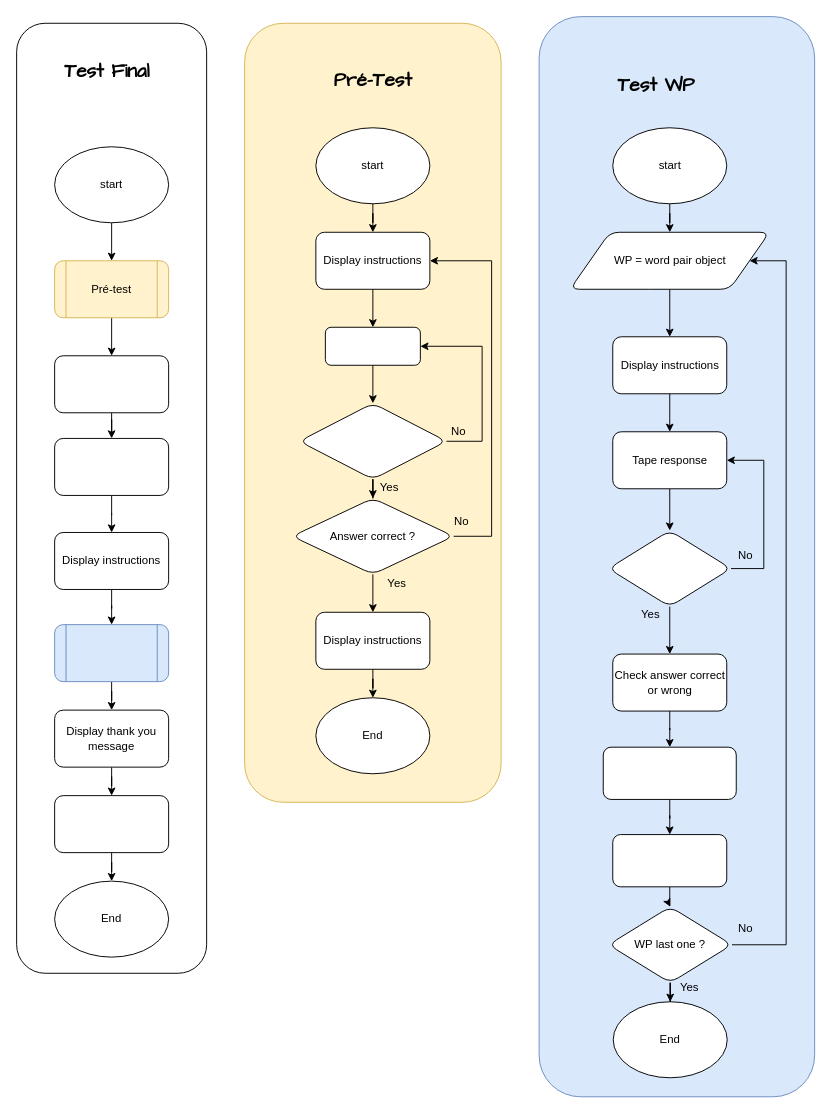
Some shapes in this 831 by 1113 pixel diagram are drawn without their labels. Here are the shapes that lost their labels. From the top down, the box of each, then its label:
(324, 326, 420, 365): Tape answer
(54, 355, 169, 413): Create word pair objects
(298, 402, 446, 479): Answer taping finished ?
(54, 437, 169, 495): Shuffle the word pair list order
(608, 530, 731, 607): response done ?
(54, 624, 169, 682): Testing phase
(602, 746, 736, 799): Set WP properties
(54, 795, 169, 853): Save results on CSV file
(612, 834, 727, 887): Display Answer Right or Answer Wrong
